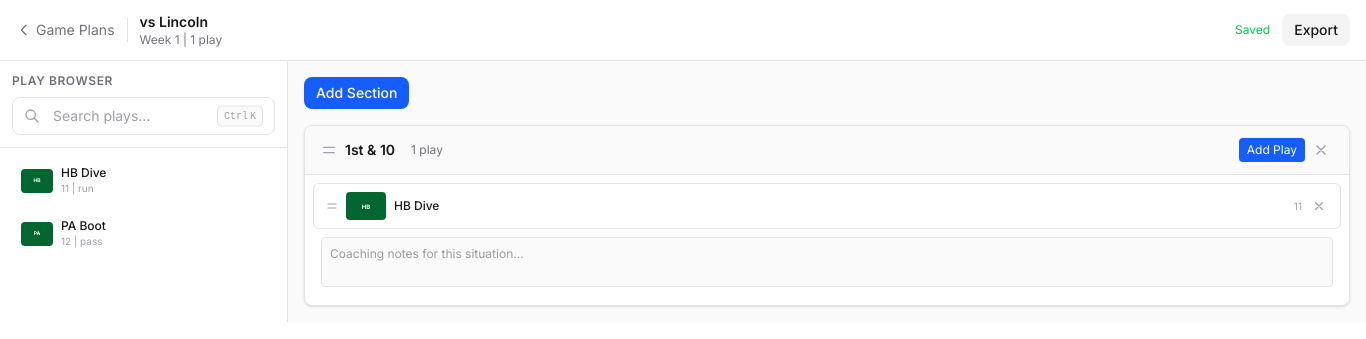
Test: GamePlanEditorPage › filters plays in browser by search
Type "HB" into the search field. click: (144, 116)
box: [12,97,275,135]
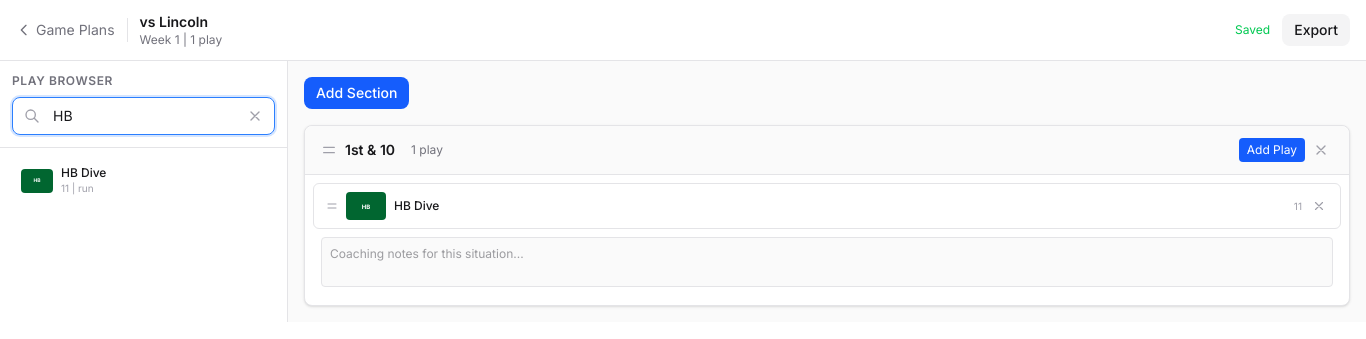
Expected: the element with test id "browser-play-play-1" is shown, [21,165,106,194]
Result: the element with test id "browser-play-play-2" is gone
